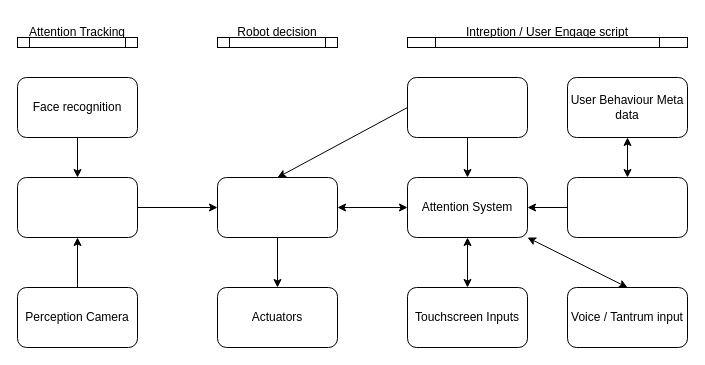
Image size: 705x365. Some labels were removed from this diagram. The shapes that lost their labels are listed below. From the top down, each one's centre as x and y in pixels, then its label:
(x=467, y=107): Interaction Scripts
(x=77, y=207): User emotion and attention Tracking
(x=277, y=207): Behaviour system
(x=627, y=207): engaging interactions
